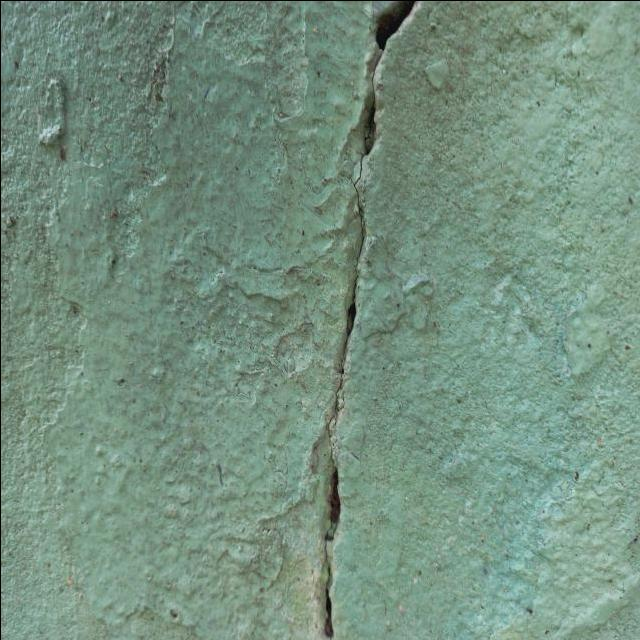SurfaceCrack: (264, 0, 463, 640)
